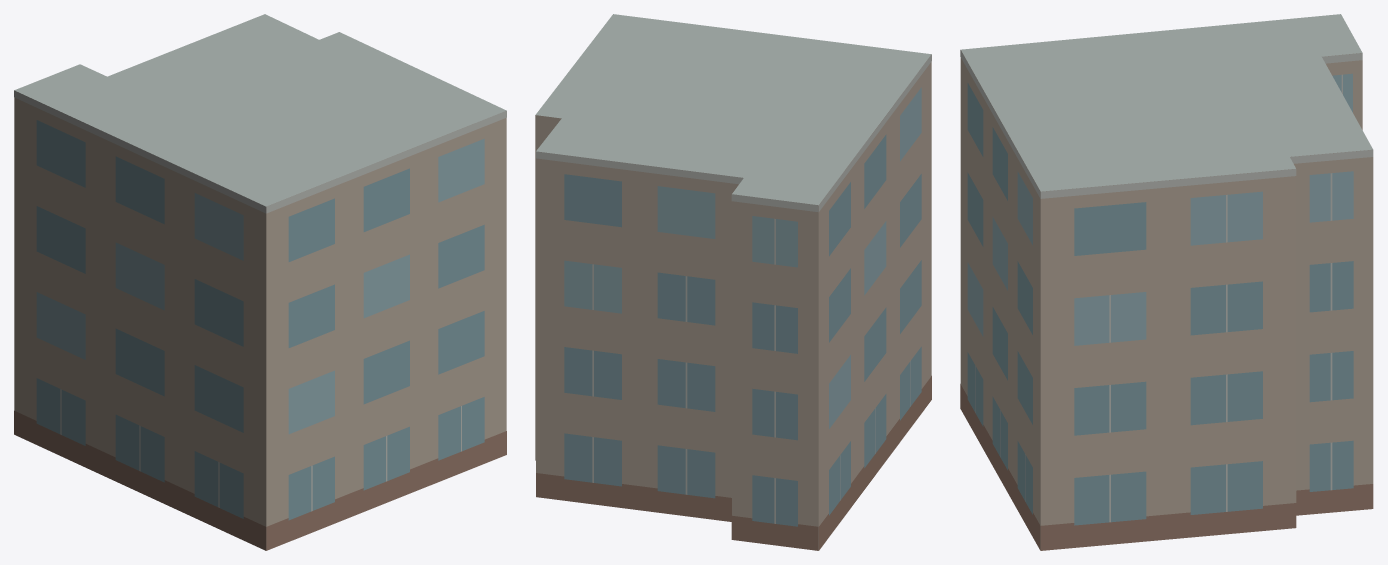
The model's file is survey-upis-32980910.glb.
3 views of the same model, side by side, from view 1: azimuth 30°, elevation 25°; view 2: azimuth 150°, elevation 25°; view 3: azimuth 270°, elevation 25° (orthographic). The views are drawn at different scales.
Parts seen in each view (by area): view 1: survey-upis-32980910.tmp; view 2: survey-upis-32980910.tmp; view 3: survey-upis-32980910.tmp.
Boxes of the visible parts, x1,y1,x2,y2 form: survey-upis-32980910.tmp: [14, 14, 506, 550]; survey-upis-32980910.tmp: [535, 14, 931, 550]; survey-upis-32980910.tmp: [960, 14, 1373, 550].
Bounding box in the file's own units: 12.73 × 12 × 12.5.
